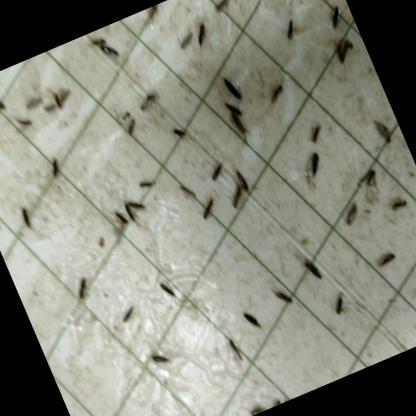prays_oleae: (140, 336, 182, 378), (269, 276, 302, 320), (263, 72, 297, 112), (124, 186, 154, 228), (368, 243, 403, 278), (296, 254, 328, 292), (240, 304, 270, 341), (324, 287, 354, 324), (97, 33, 129, 67), (174, 174, 202, 212), (356, 166, 386, 200), (43, 86, 74, 116), (336, 198, 364, 231), (330, 32, 358, 64), (220, 71, 246, 104), (226, 107, 251, 141), (195, 191, 223, 220), (135, 86, 162, 116), (106, 202, 131, 234), (116, 192, 139, 226), (277, 16, 302, 46), (72, 274, 96, 304), (188, 17, 212, 47), (150, 273, 176, 300), (13, 108, 38, 136), (302, 146, 325, 176), (44, 156, 68, 184), (113, 297, 138, 323), (203, 156, 227, 183), (233, 166, 256, 194), (303, 116, 326, 144), (224, 332, 244, 364), (224, 181, 248, 207), (134, 172, 157, 196), (123, 116, 144, 142), (385, 196, 411, 216), (168, 119, 190, 142), (325, 2, 345, 27), (18, 207, 37, 232), (86, 29, 108, 50), (205, 0, 243, 12), (246, 400, 269, 416), (268, 396, 282, 408), (282, 392, 298, 402), (0, 94, 6, 119)
